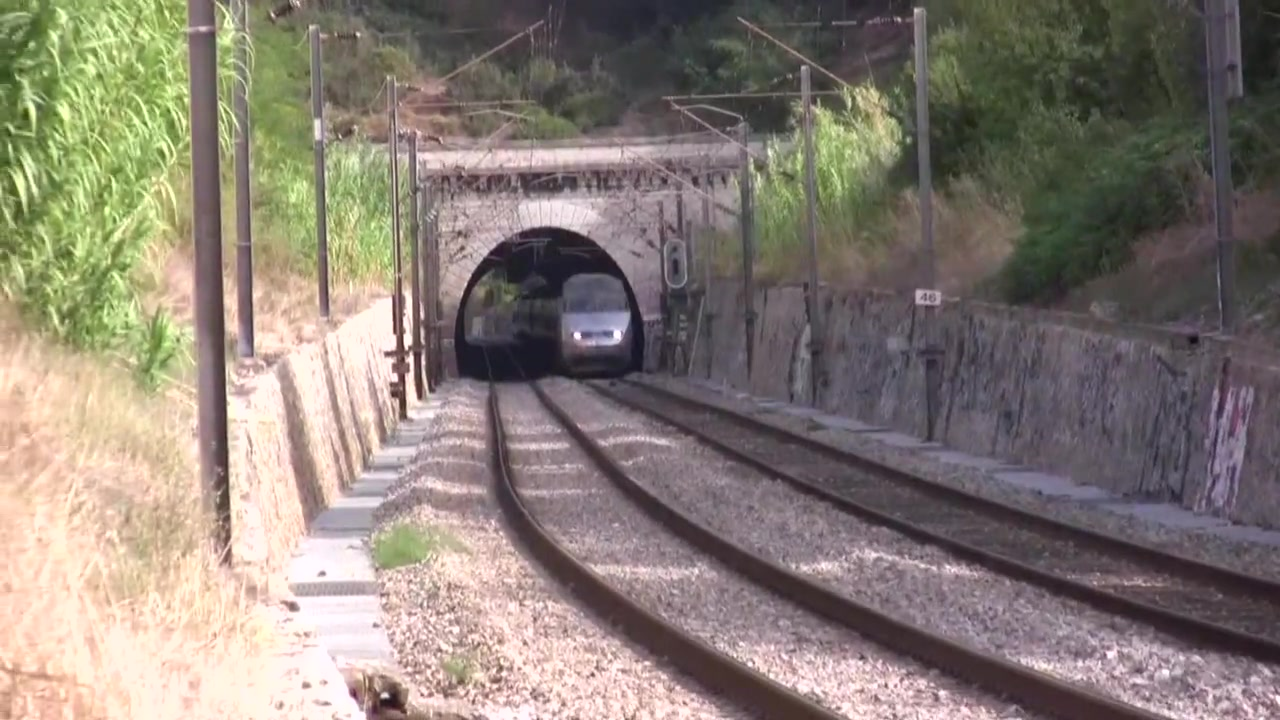train: (501, 270, 639, 382)
